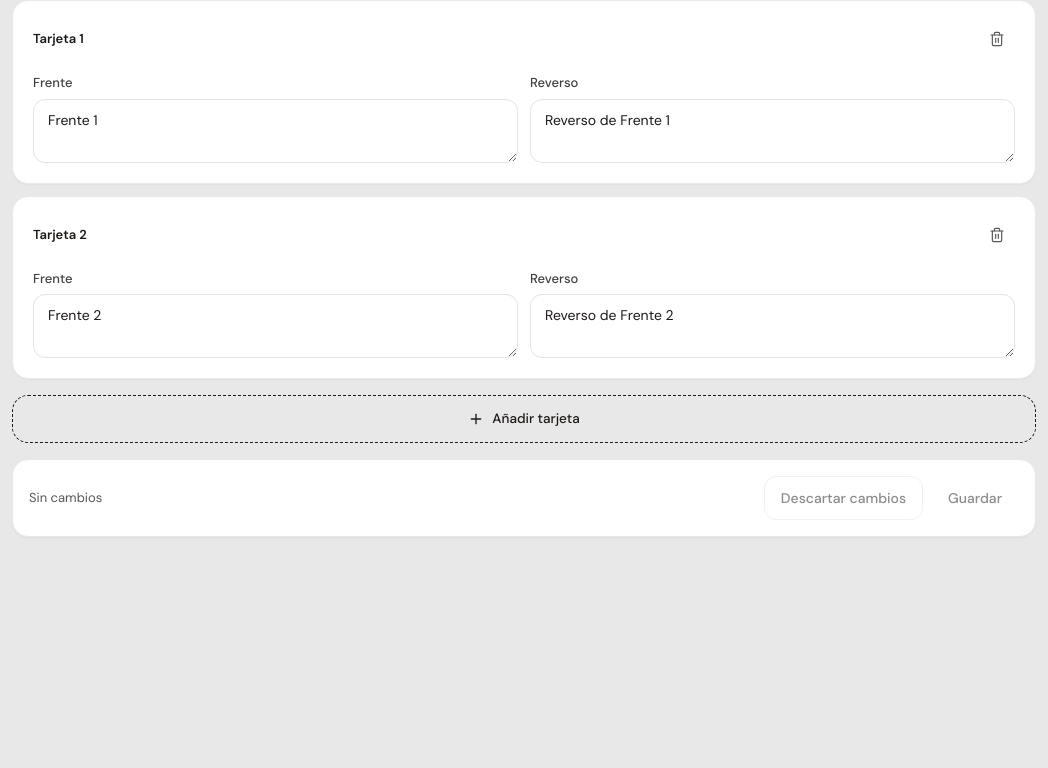
Test: DeckEditor › explains a FLASHCARD_CHANGED refusal and keeps the draft
Replace the text in the text box labelled "Frente" below "Tarjeta 1" with "Nuevo" at (276, 130), box [33,98,518,162]
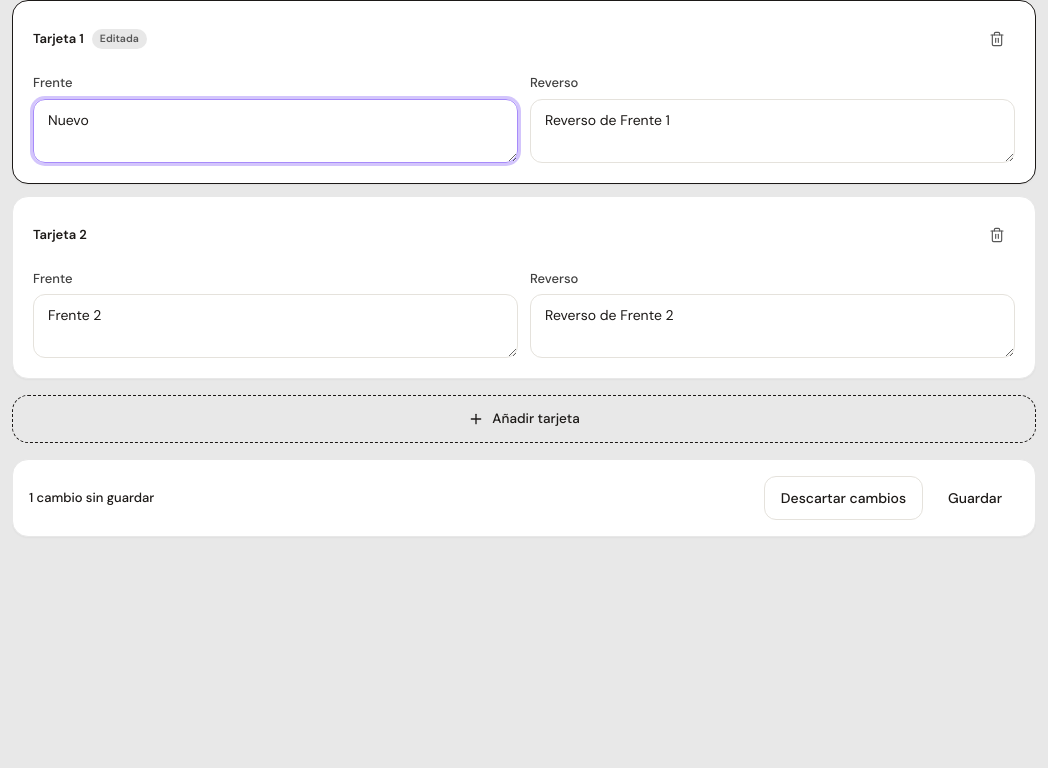
Click the button "Guardar" at (975, 498), box [931,476,1019,520]
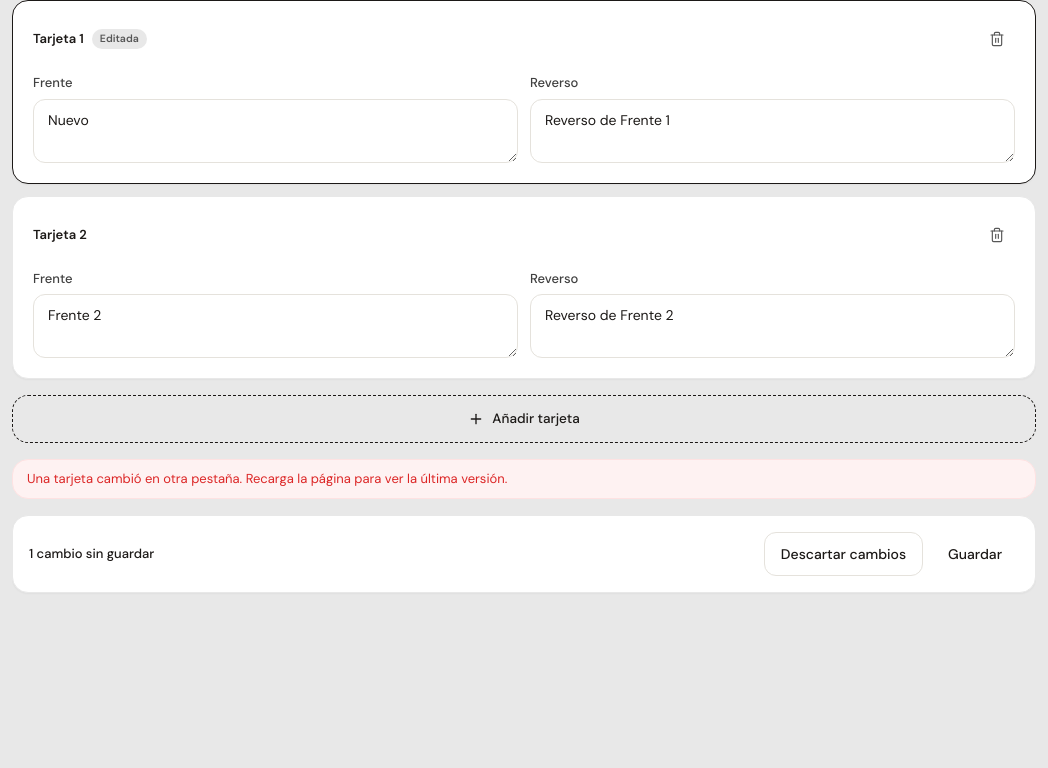
Now the text "1 cambio sin guardar" is shown, box [29,544,154,564]
Now the message shows "cambió en otra pestaña", box [27,470,507,487]
